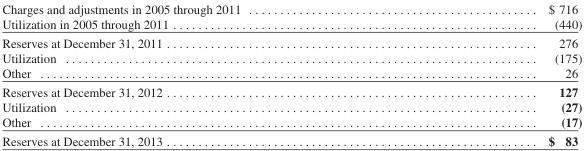table: (1, 1, 581, 148)
table column: (1, 1, 394, 148), (394, 1, 581, 148)
table row: (1, 15, 581, 33), (1, 33, 581, 50), (1, 65, 581, 82), (1, 82, 581, 99), (1, 114, 581, 131), (1, 131, 581, 148), (1, 50, 581, 65), (1, 99, 581, 114), (1, 1, 581, 15)
